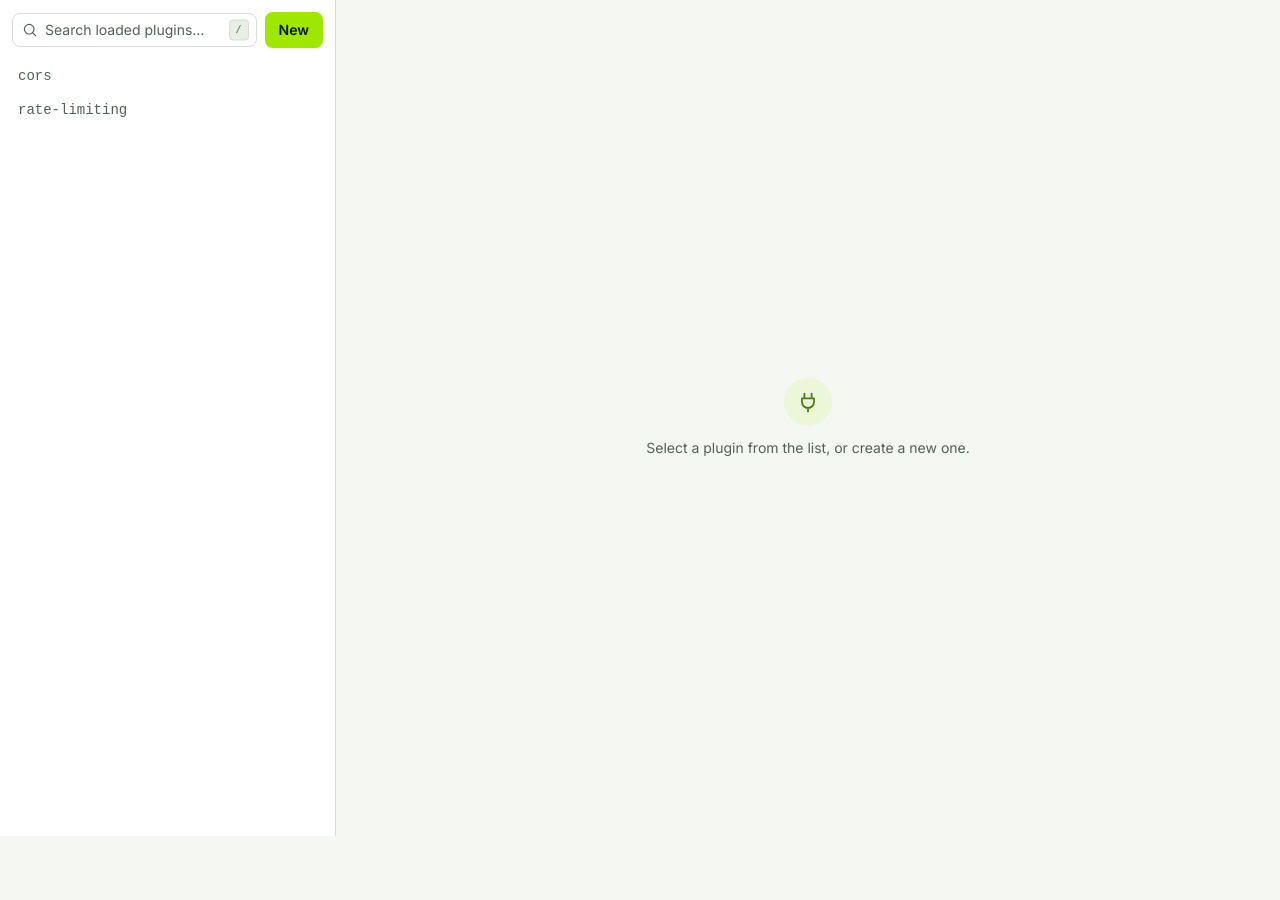
Test: LivePluginsView › shows what Kong rejected and keeps the form open
What coordinates should you click on to do the following:
click the button "New"
I would click on:
 (294, 30)
Its box is [264,12,323,48].
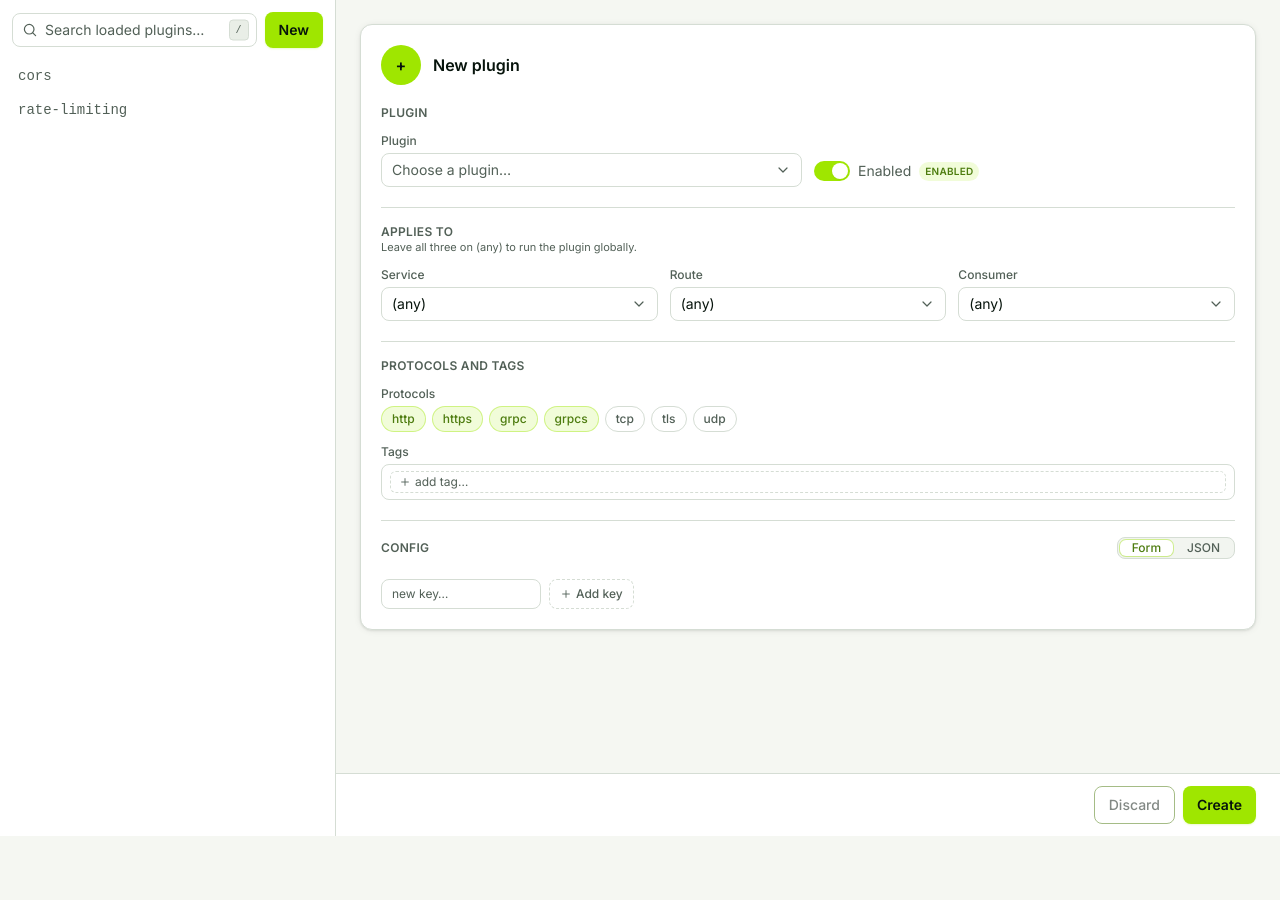
What coordinates should you click on to do the following:
click the dropdown labelled "Choose a plugin…"
I would click on:
 (452, 170)
Its box is [381,153,802,187].
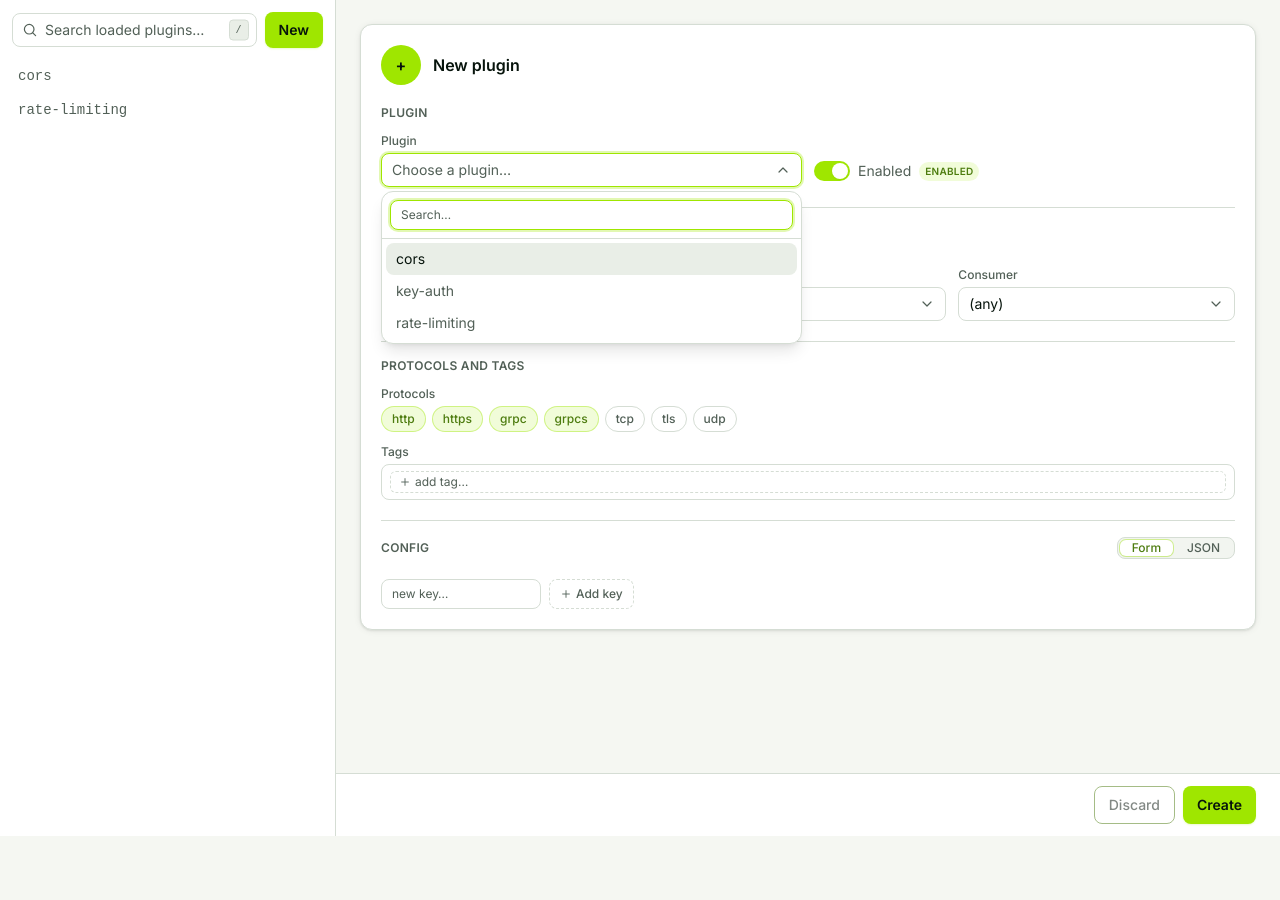
What coordinates should you click on to do the following:
click the option "rate-limiting"
I would click on:
 (436, 322)
Its box is [396,314,476,331].
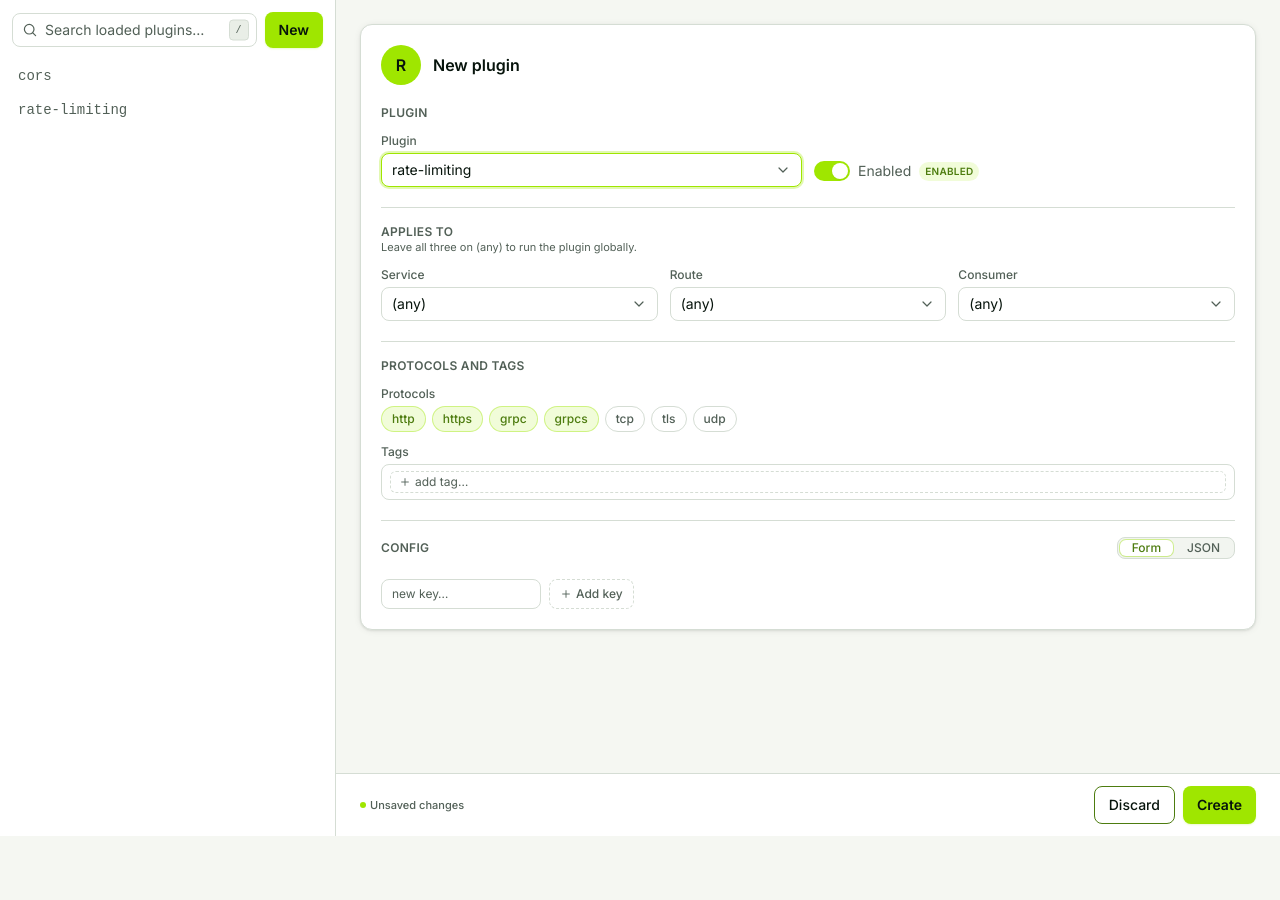
What coordinates should you click on to do the following:
click the button with test id "save"
I would click on:
 (1219, 805)
Its box is [1183,786,1256,824].
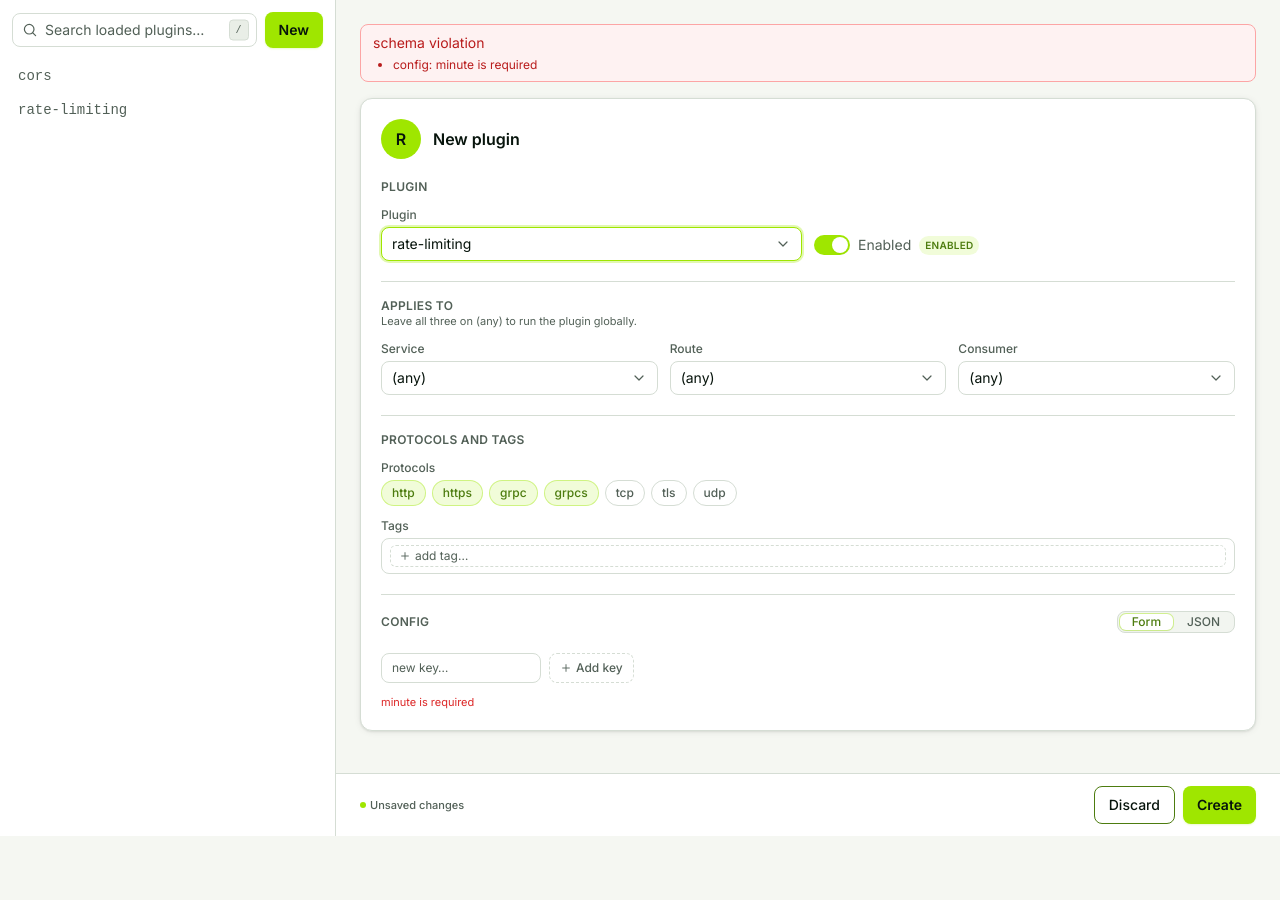
Check: the text "schema violation" is shown, box [373,34,484,51]
Check: the text "minute is required" is shown, box [393,57,537,72]
